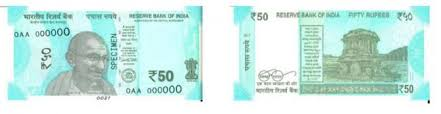fifty: (8, 27, 185, 87)
